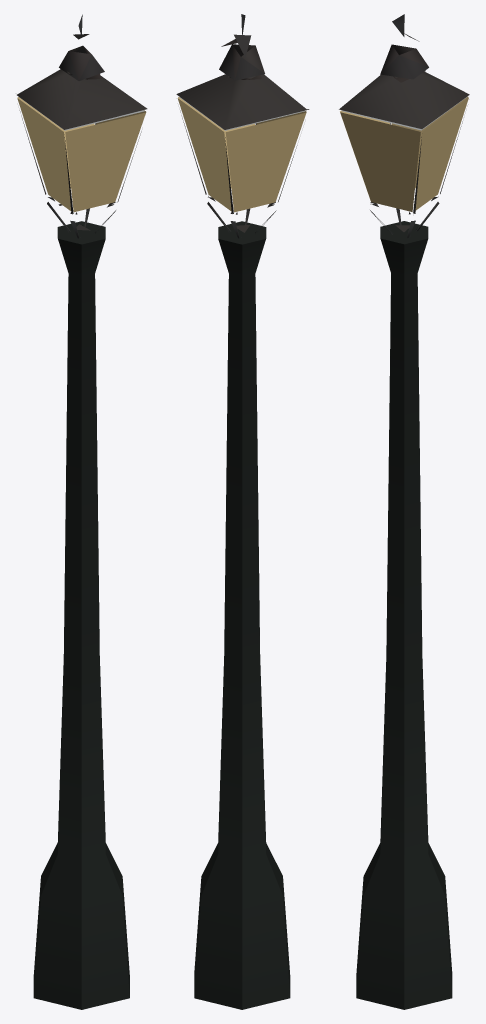
Rendered from lampadaire_classique.glb.
The picture shows the model from 3 angles, left to right: view 1: azimuth 30°, elevation 25°; view 2: azimuth 210°, elevation 25°; view 3: azimuth 330°, elevation 25°; orthographic projection.
Visible parts, largest first — view 1: lampadaire_classique; view 2: lampadaire_classique; view 3: lampadaire_classique.
Boxes of the visible parts, left/top/right/bottom form: lampadaire_classique: left=17, top=14, right=147, bottom=1009; lampadaire_classique: left=176, top=14, right=309, bottom=1009; lampadaire_classique: left=339, top=14, right=469, bottom=1009.
Bounding box in the file's own units: 0.4 × 3.87 × 0.3529.
